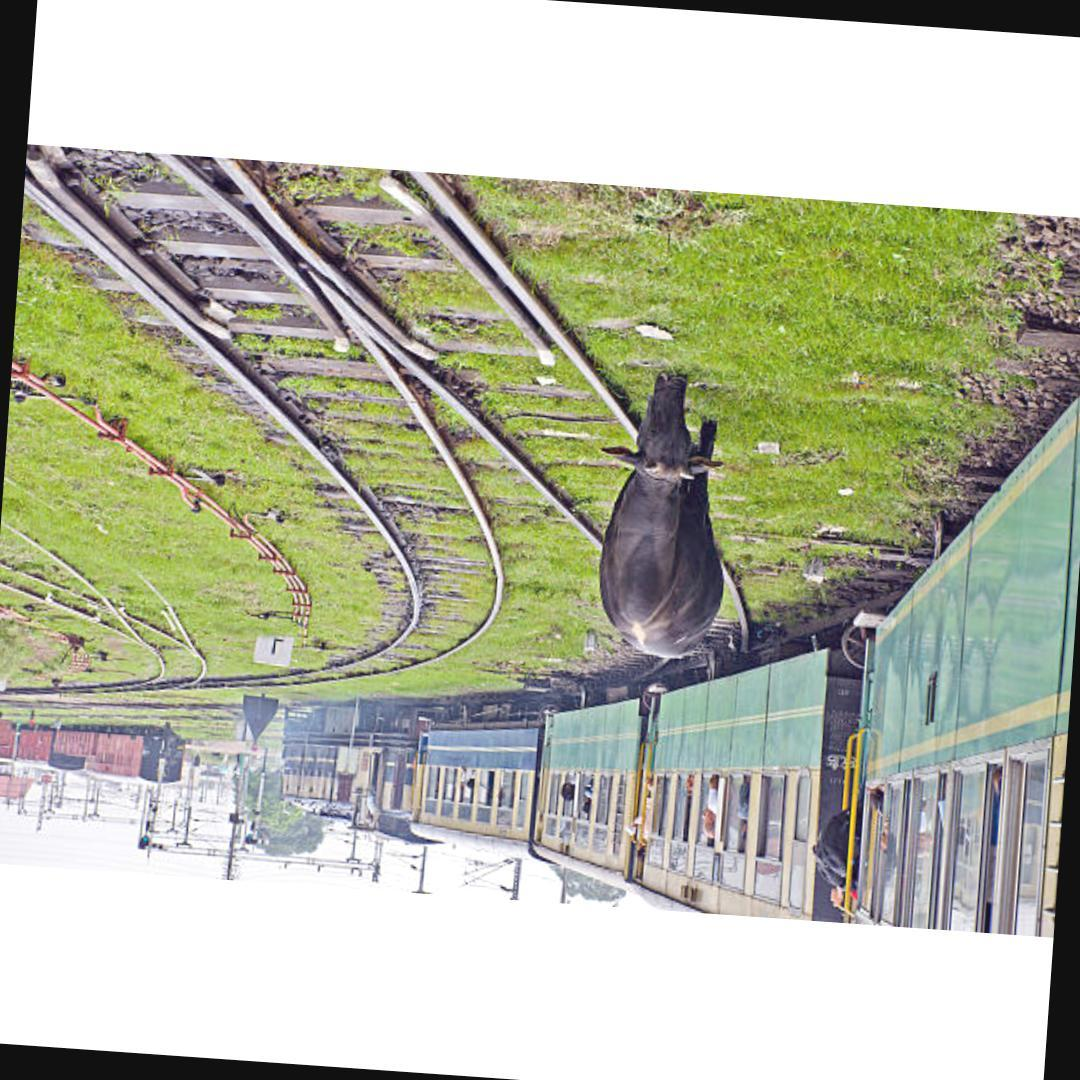track: (0, 143, 530, 698), (207, 156, 761, 675)
